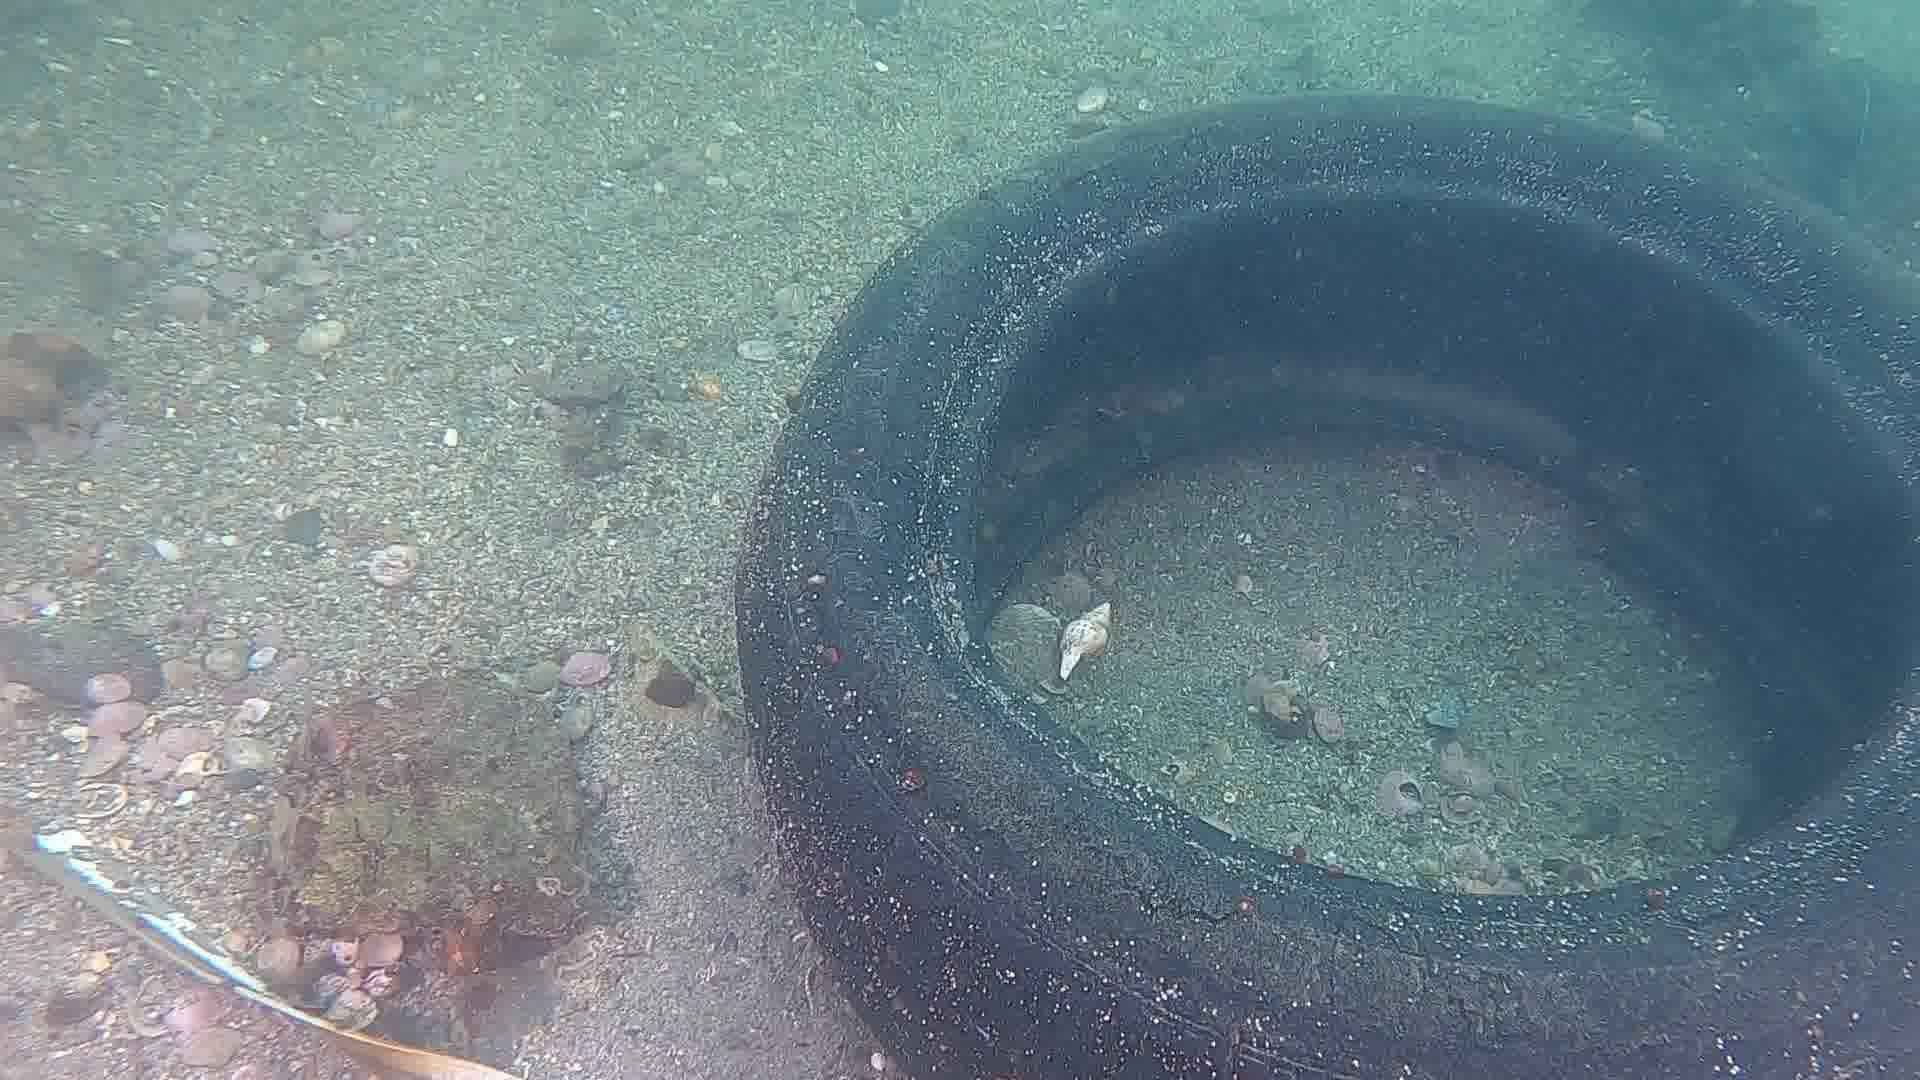tire: (736, 88, 1920, 1080)
